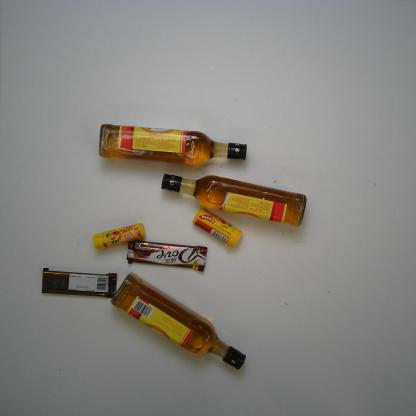Candy: (191, 206, 243, 252), (91, 222, 151, 252)
Chocolate: (123, 238, 209, 274), (40, 265, 119, 300)
Seasoner: (108, 272, 248, 372), (158, 170, 308, 230), (94, 121, 248, 168)
